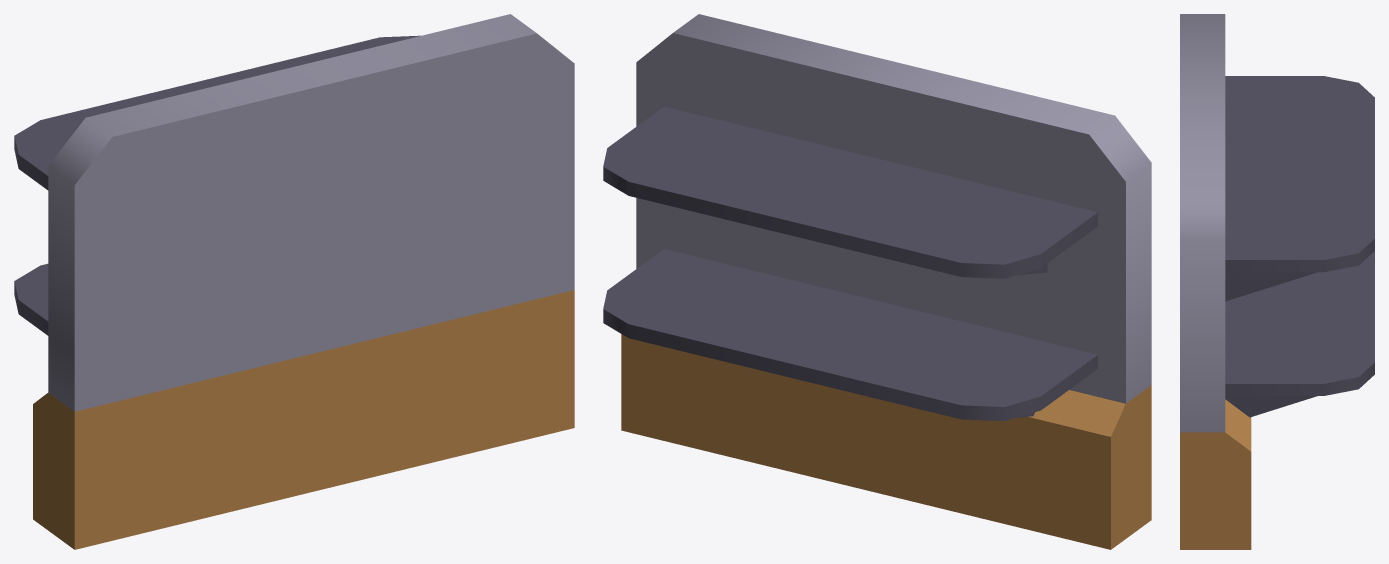
File: Shelf2.fbx
The picture shows the model from 3 angles, left to right: view 1: azimuth 30°, elevation 25°; view 2: azimuth 150°, elevation 25°; view 3: azimuth 270°, elevation 25°; orthographic projection. The views are drawn at different scales.
Visible parts, largest first — view 1: Shelf2; view 2: Shelf2; view 3: Shelf2.
Part boxes in pixels (bbox=[...]): Shelf2: bbox=[14, 14, 574, 549]; Shelf2: bbox=[603, 14, 1151, 549]; Shelf2: bbox=[1180, 14, 1374, 549].
Bounding box in the file's own units: 200 × 154 × 79.25.
